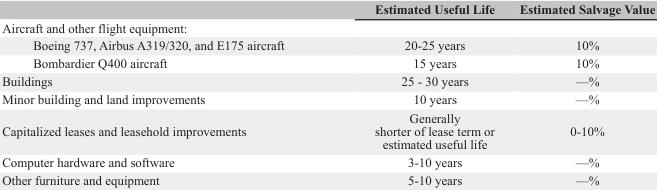table: (1, 1, 654, 187)
table column: (1, 1, 328, 187), (328, 1, 506, 187), (506, 1, 654, 187)
table column header: (1, 1, 654, 17)
table projected row header: (1, 17, 654, 35)
table row: (1, 107, 654, 152), (1, 17, 654, 35), (1, 35, 654, 53), (1, 53, 654, 71), (1, 71, 654, 89), (1, 89, 654, 107), (1, 152, 654, 170), (1, 170, 654, 187), (1, 1, 654, 17)
